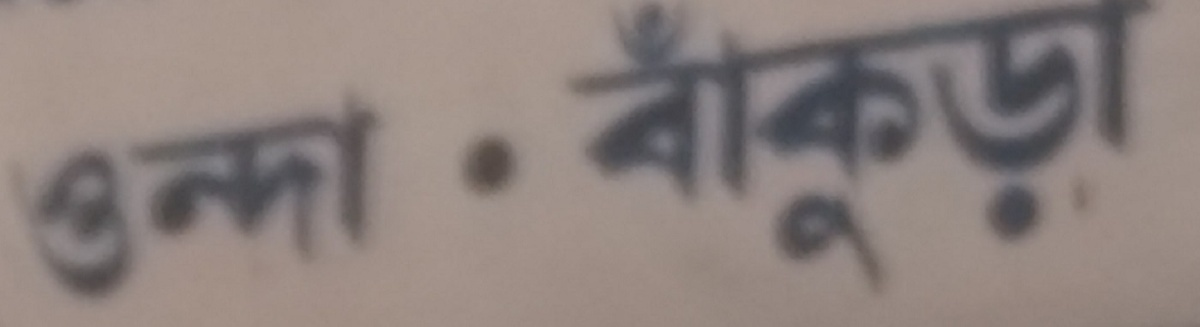text: (561, 2, 576, 298), (577, 2, 592, 298), (593, 2, 608, 298), (609, 2, 624, 298), (625, 2, 640, 298), (641, 2, 656, 298), (657, 2, 672, 298), (673, 2, 688, 298), (689, 2, 704, 298), (705, 2, 720, 298), (721, 2, 736, 298), (737, 2, 752, 298), (753, 2, 768, 298), (769, 2, 784, 298), (785, 2, 800, 298), (801, 2, 816, 298), (817, 2, 832, 298), (833, 2, 848, 298), (849, 2, 864, 298), (865, 2, 880, 298), (881, 2, 896, 298), (897, 2, 912, 298), (913, 2, 928, 298), (929, 2, 944, 298), (945, 2, 960, 298), (961, 2, 976, 298), (977, 2, 992, 298), (993, 2, 1008, 298), (1009, 2, 1024, 298), (1025, 2, 1040, 298), (1041, 2, 1056, 298), (1057, 2, 1072, 298), (1073, 2, 1088, 298), (1089, 2, 1104, 298), (1105, 2, 1120, 298), (1121, 2, 1136, 298), (1137, 2, 1152, 298), (17, 72, 32, 319), (33, 72, 48, 319), (49, 72, 64, 319), (65, 72, 80, 319), (81, 72, 96, 319), (97, 72, 112, 319), (113, 72, 128, 319), (129, 72, 144, 319), (145, 72, 160, 319), (161, 72, 176, 319), (177, 72, 192, 319), (193, 72, 208, 319), (209, 72, 224, 319), (225, 72, 240, 319), (241, 72, 256, 319), (257, 72, 272, 319), (273, 72, 288, 319), (289, 72, 304, 319), (305, 72, 320, 319), (321, 72, 336, 319), (337, 72, 352, 319), (353, 72, 368, 319), (369, 72, 384, 319), (1153, 2, 1165, 298), (7, 72, 16, 319), (385, 72, 391, 319), (513, 133, 529, 197), (465, 133, 480, 197), (481, 133, 496, 197), (497, 133, 512, 197), (557, 2, 560, 298), (453, 133, 464, 197)
